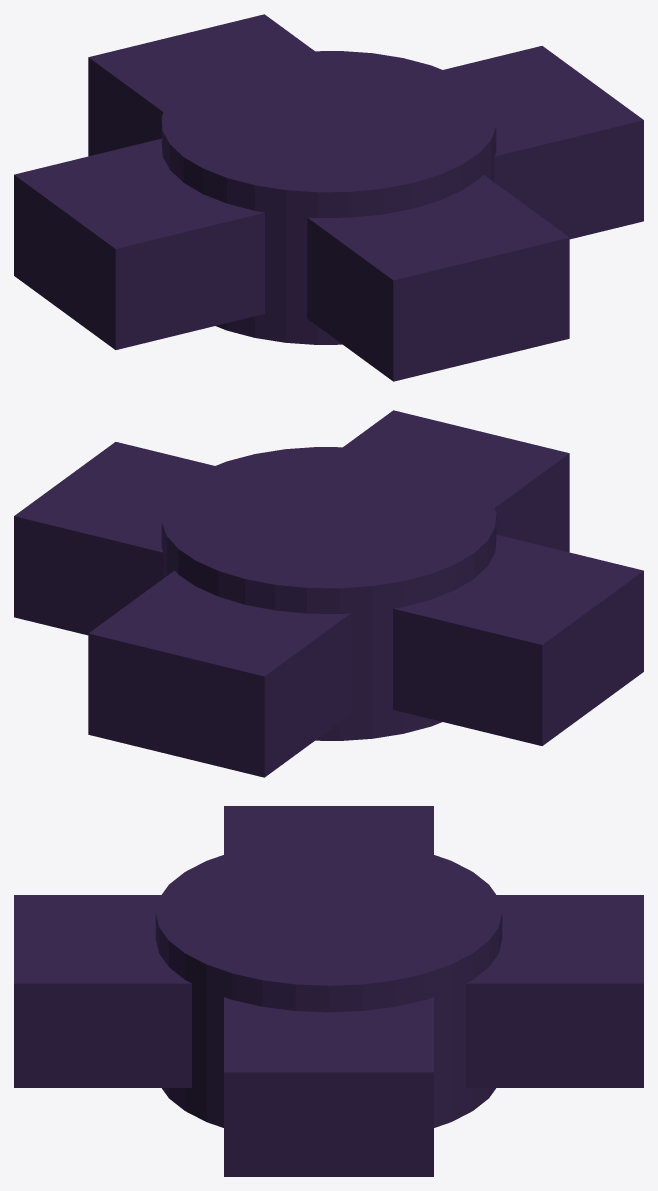
Rendered from tower_base.fbx.
3 renders of one model, top to bottom at view 1: azimuth 30°, elevation 25°; view 2: azimuth 150°, elevation 25°; view 3: azimuth 270°, elevation 25°, orthographic. The views are drawn at different scales.
Parts seen in each view (by area): view 1: tower_base; view 2: tower_base; view 3: tower_base.
Boxes of the visible parts, x1,y1,x2,y2 form: tower_base: (14,14,643,381); tower_base: (14,410,643,777); tower_base: (14,806,643,1176).
Size of the model in its own units: 600 by 166 by 600.
